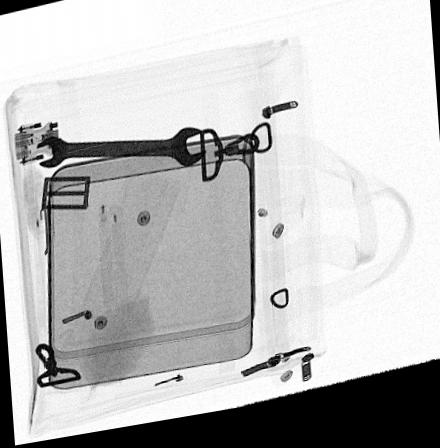Wrench: (36, 131, 208, 175)
